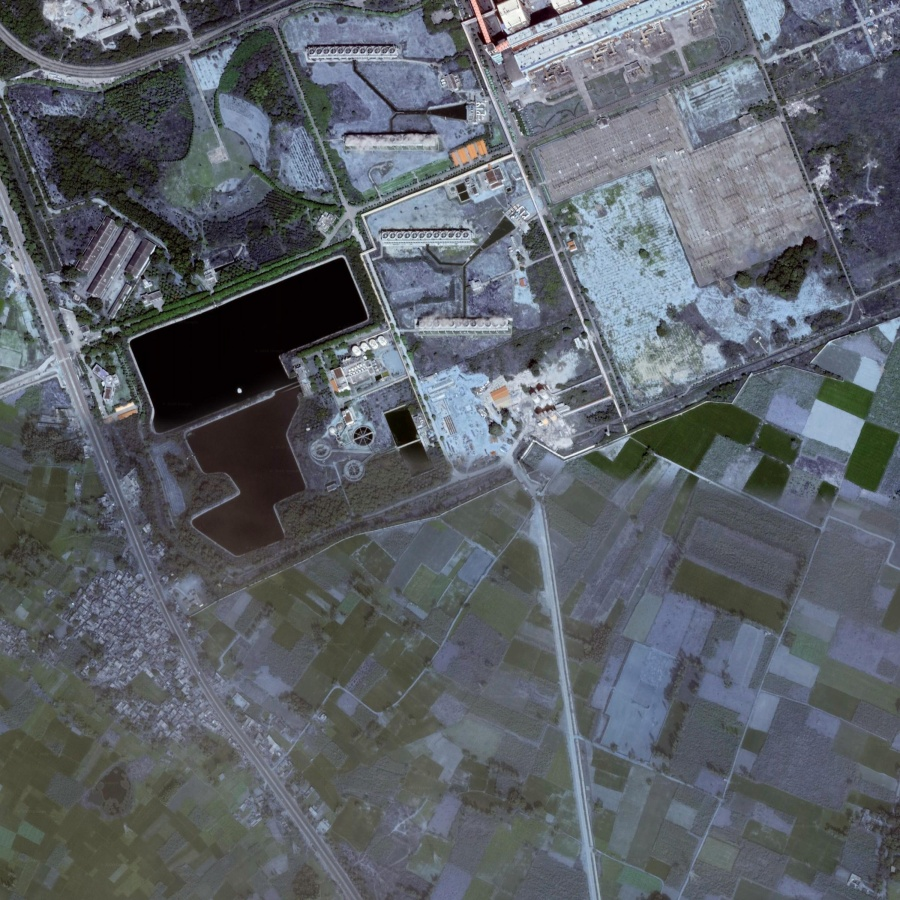PowerPlant: (109, 248, 379, 476)
